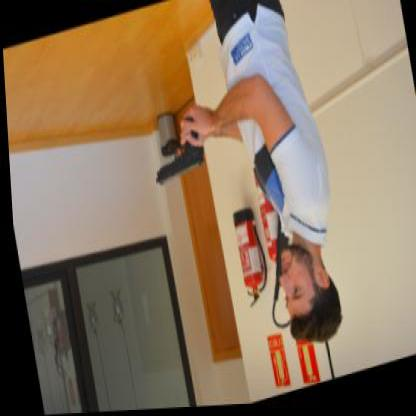pistol: (146, 115, 206, 187)
